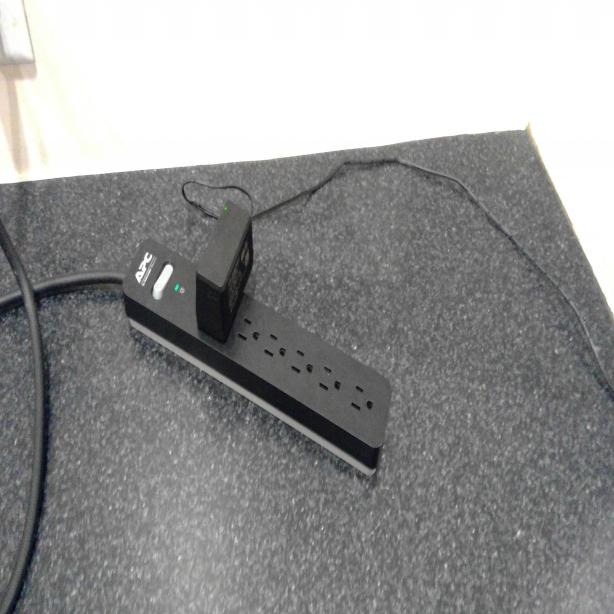typeb: (348, 375, 376, 420), (317, 356, 343, 401), (237, 308, 260, 354), (290, 343, 316, 382), (264, 329, 288, 366)
